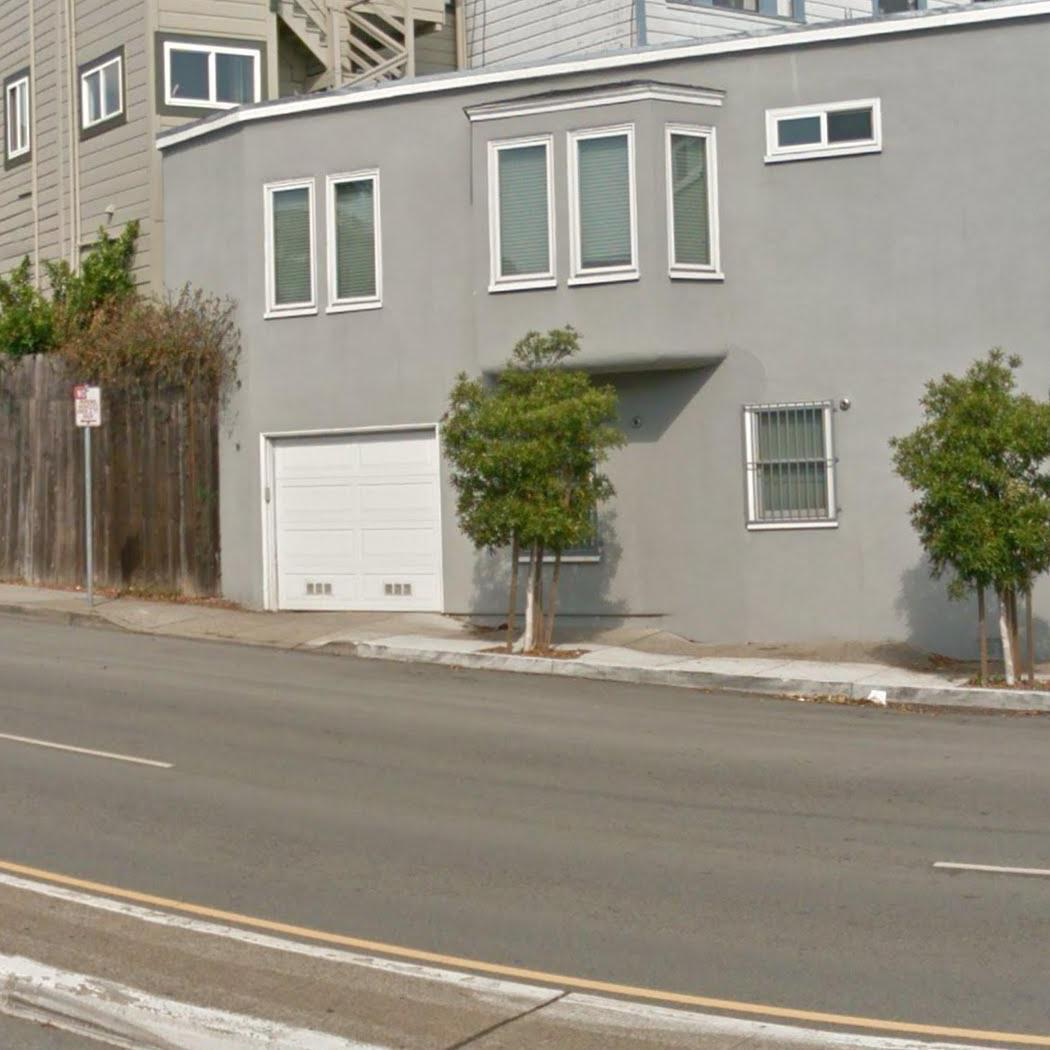No Parking Anytime: (72, 382, 103, 428)
